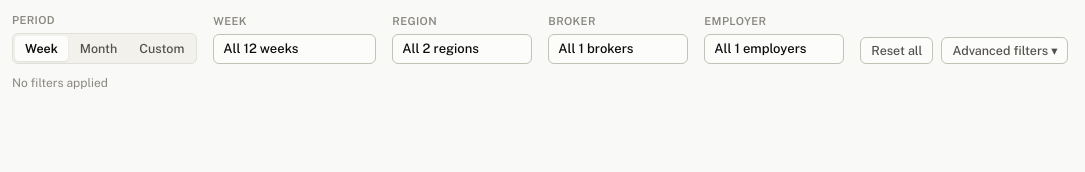
the period control › keeps the mode when switching, rather than losing it to the date clear
Click the button "Month": (98,48) [70, 36, 127, 60]
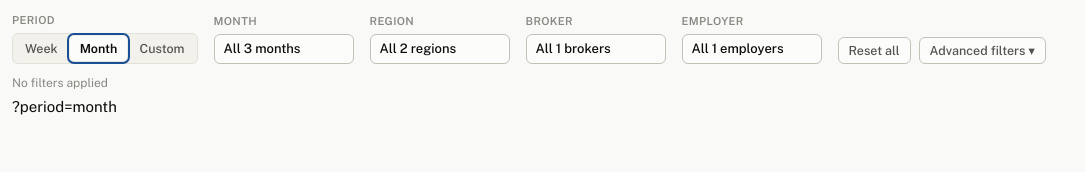
Expected: the text with test id "address" shows "period=month", [12, 98, 117, 114]
